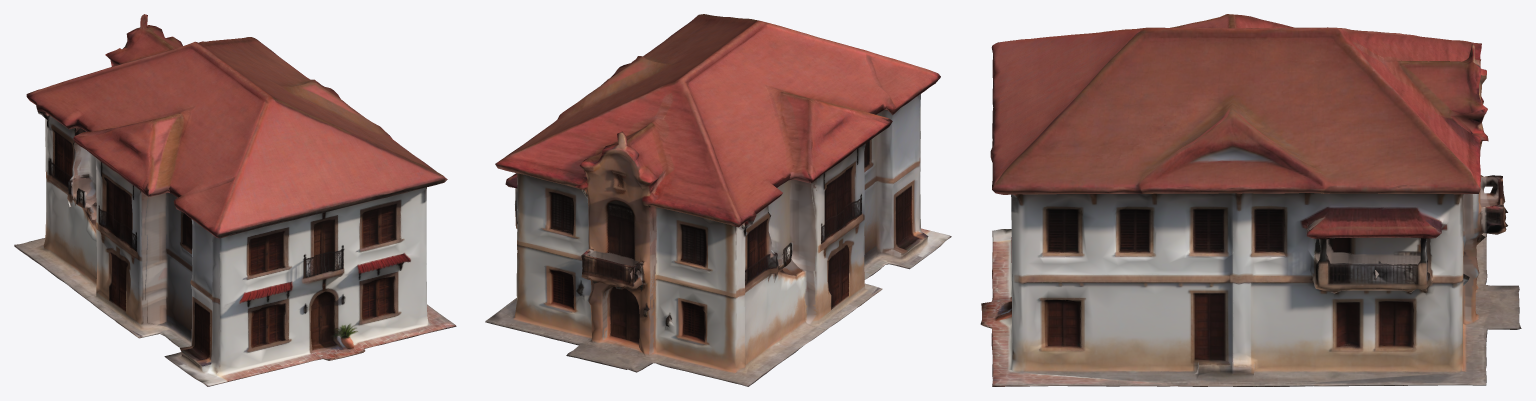
The model's file is Generate_a_low_poly_3_0908105053_texture.fbx.
3 views of the same model, side by side, from view 1: azimuth 30°, elevation 25°; view 2: azimuth 150°, elevation 25°; view 3: azimuth 270°, elevation 25° (orthographic). The views are drawn at different scales.
Visible parts, largest first — view 1: Mesh1.0; view 2: Mesh1.0; view 3: Mesh1.0.
Boxes of the visible parts, x1,y1,x2,y2 form: Mesh1.0: (14, 14, 456, 386); Mesh1.0: (485, 14, 951, 386); Mesh1.0: (980, 14, 1521, 386).
Size of the model in its own units: 139 by 115 by 202.
Materials: 1 (1 with a texture image).
